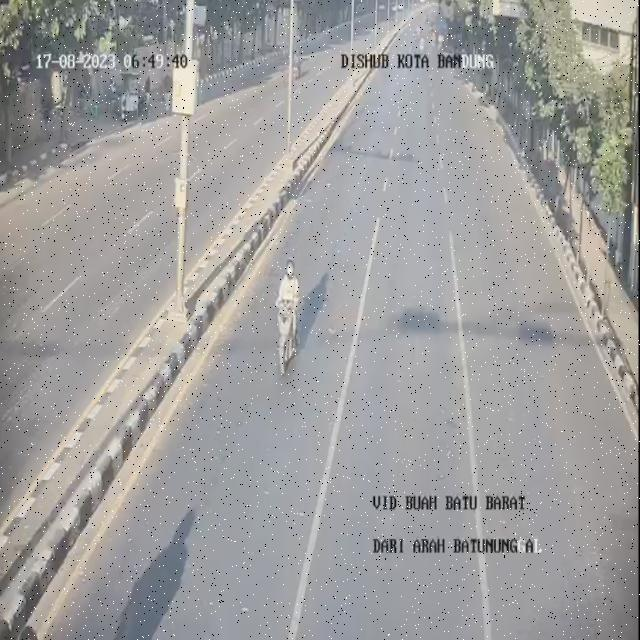motorcycle: (269, 251, 307, 370)
